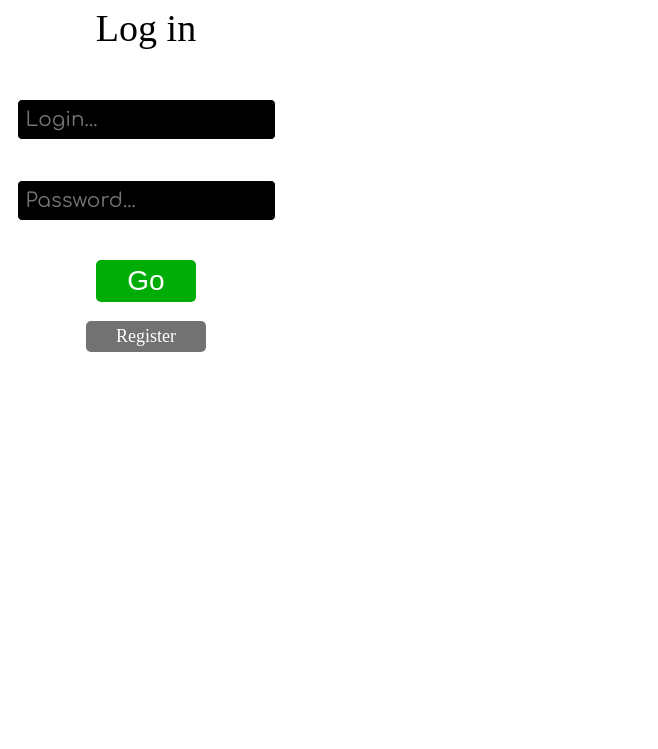
Test case: Login component › should display message and redirect to /home if user type correct credentials
The width and height of the screenshot is (658, 749).
Type "user1" into the field with test id "loginLogin" at coordinates (146, 120), box x1=16 y1=99 x2=276 y2=140
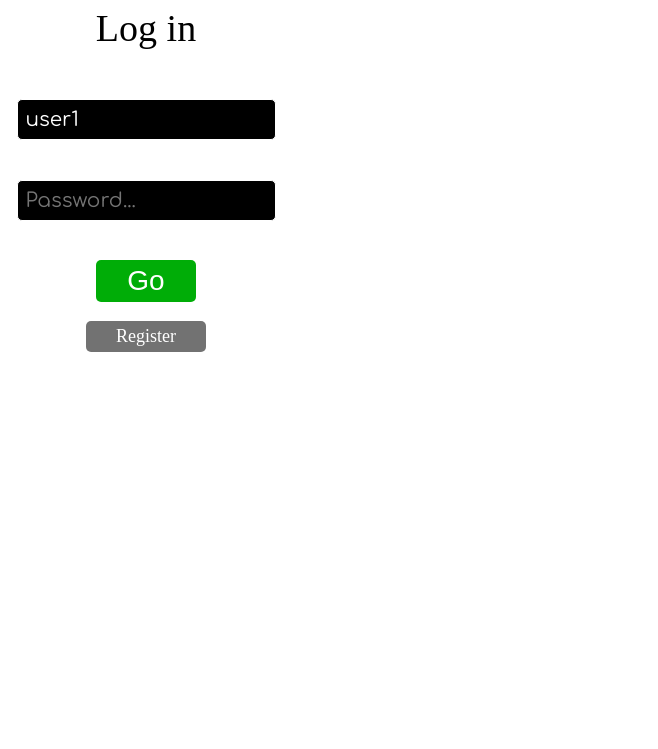
Type "password1" into the password field with test id "passwordLogin" at coordinates (146, 200), box x1=16 y1=180 x2=276 y2=221
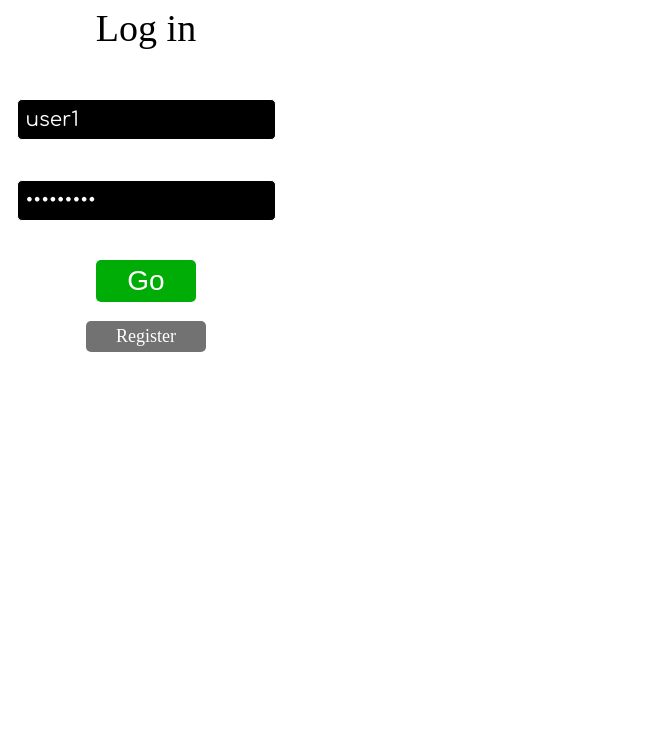
Click the button with test id "logInButton" at coordinates (146, 281), box x1=96 y1=260 x2=196 y2=302
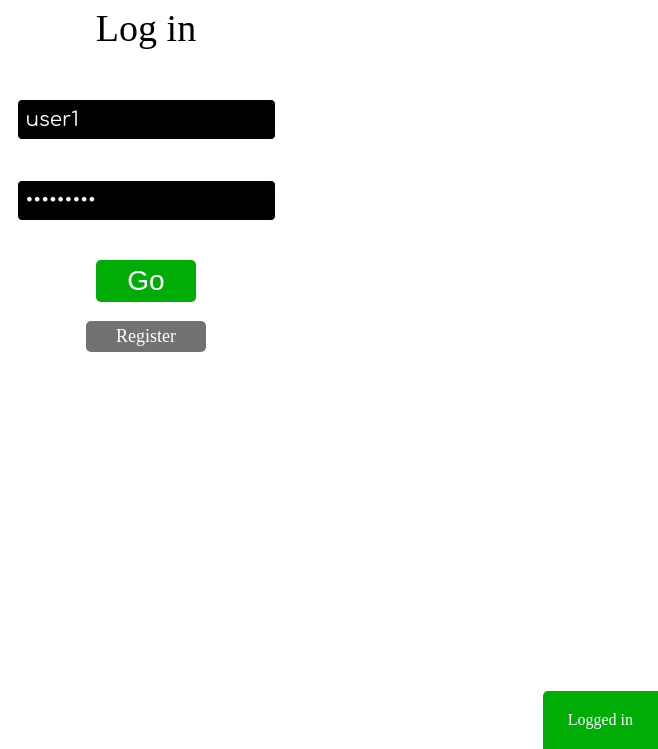
Result: the element with test id "infoModal" reads "Logged in" at x1=568 y1=711 x2=633 y2=728
